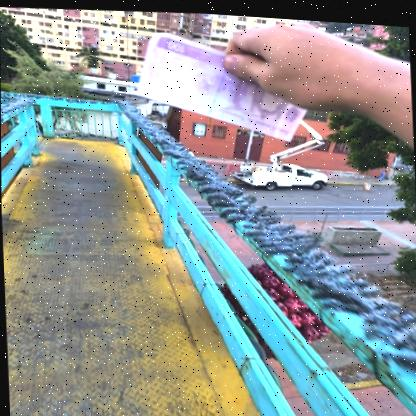one_hundred-back-vef: (132, 23, 309, 145)
